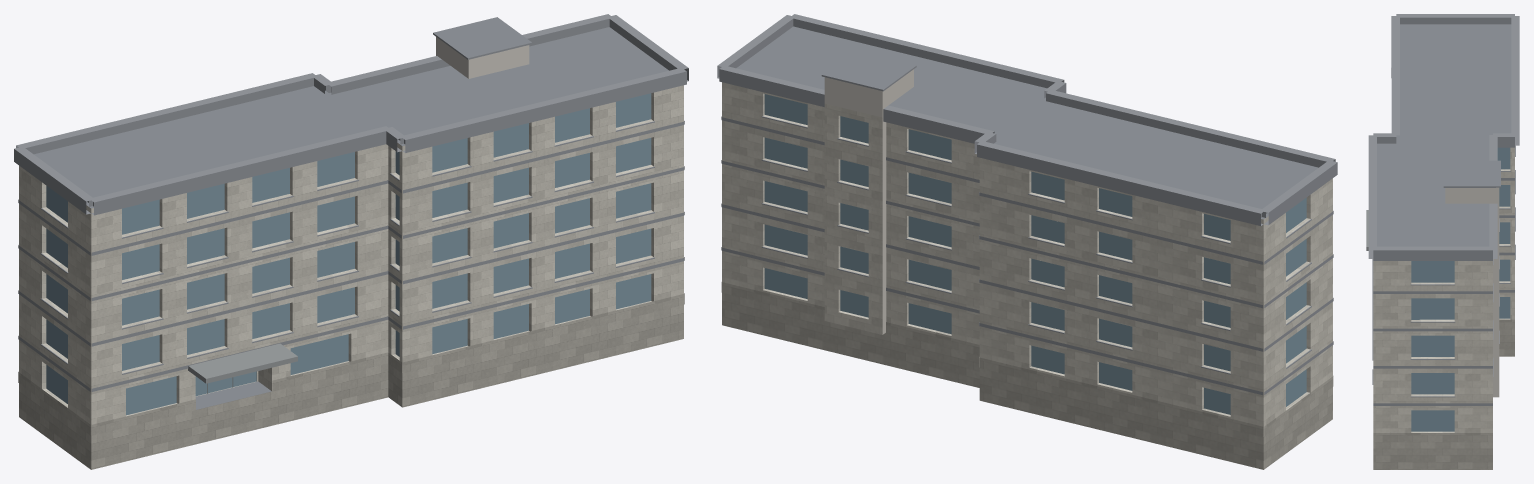
3 views of the same model, side by side, from view 1: azimuth 30°, elevation 25°; view 2: azimuth 150°, elevation 25°; view 3: azimuth 270°, elevation 25° (orthographic). The views are drawn at different scales.
Visible parts, largest first — view 1: intlVillageAW5_4__wall, intlVillageAW5_4__glass, intlVillageAW5_4__roof, intlVillageAW5_4__trim, intlVillageAW5_4__base, intlVillageAW5_4__canopy, intlVillageAW5_4__wall2; view 2: intlVillageAW5_4__wall, intlVillageAW5_4__trim, intlVillageAW5_4__roof, intlVillageAW5_4__base, intlVillageAW5_4__glass, intlVillageAW5_4__wall2; view 3: intlVillageAW5_4__roof, intlVillageAW5_4__wall, intlVillageAW5_4__trim, intlVillageAW5_4__glass, intlVillageAW5_4__base, intlVillageAW5_4__wall2.
Boxes of the visible parts, x1,y1,x2,y2 form: intlVillageAW5_4__wall: (19,85,683,435); intlVillageAW5_4__glass: (46,93,651,415); intlVillageAW5_4__roof: (34,17,668,409); intlVillageAW5_4__trim: (14,14,688,391); intlVillageAW5_4__base: (18,293,684,469); intlVillageAW5_4__canopy: (188,343,297,383); intlVillageAW5_4__wall2: (436,37,529,78); intlVillageAW5_4__wall: (722,82,1332,436); intlVillageAW5_4__trim: (717,14,1337,395); intlVillageAW5_4__roof: (736,26,1318,219); intlVillageAW5_4__base: (721,282,1333,469); intlVillageAW5_4__glass: (764,94,1306,414); intlVillageAW5_4__wall2: (824,69,913,334); intlVillageAW5_4__roof: (1377,24,1511,246); intlVillageAW5_4__wall: (1373,147,1514,432); intlVillageAW5_4__trim: (1368,14,1519,405); intlVillageAW5_4__glass: (1411,147,1510,431); intlVillageAW5_4__base: (1373,319,1514,469); intlVillageAW5_4__wall2: (1445,187,1499,397).
Size of the model in its own units: 44.8 by 21.2 by 12.3.
Materials: 9 (2 with a texture image).
